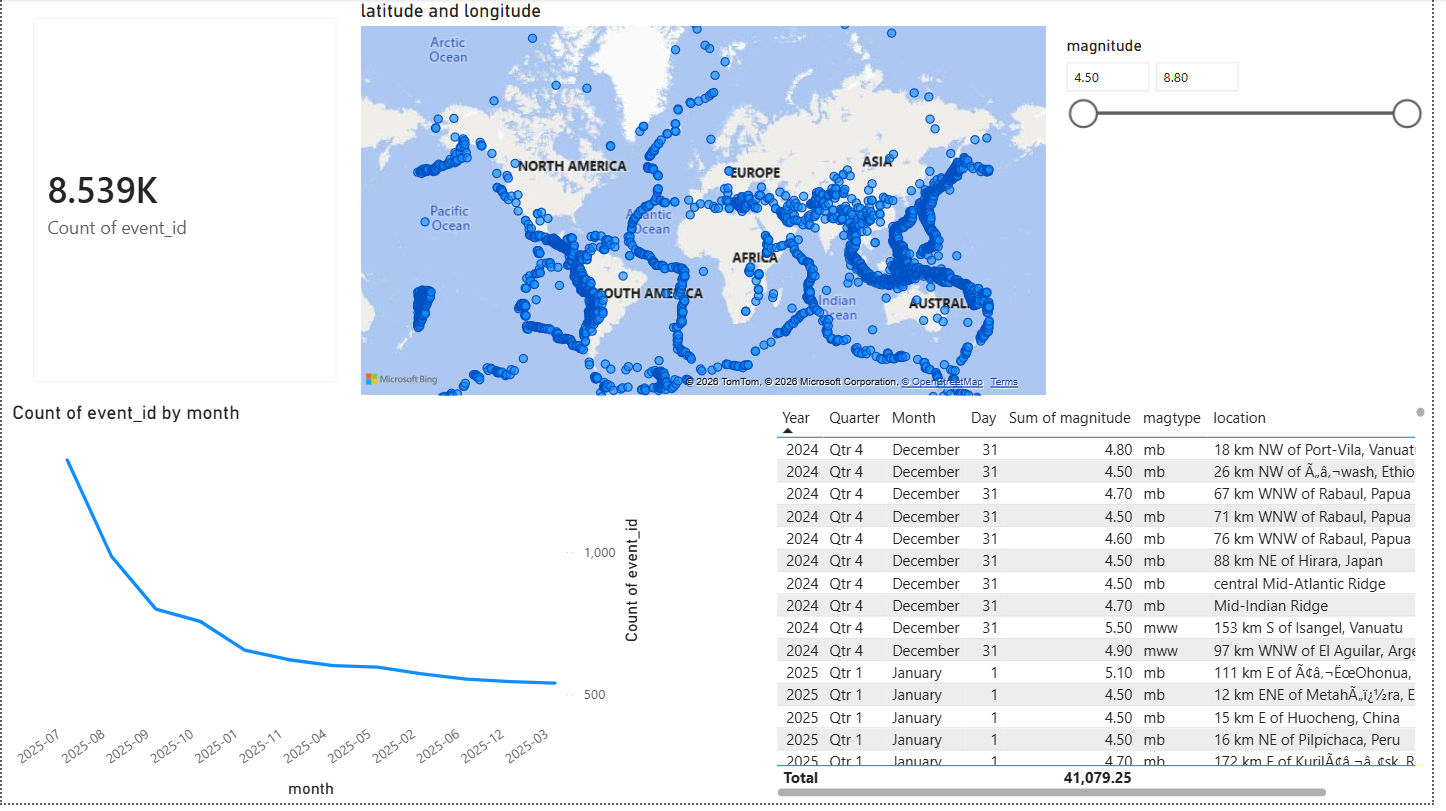

The page's visual inventory and layout, read from the dashboard file:
{"tool":"powerbi","page":{"name":"Page 1","canvas":[1280,720],"ordinal":0},"visuals":[{"type":"cardVisual","fields":{"Data":["CountNonNull(usgs earthquakes.event_id)"]},"box":[10.4,0,306.1,360.4],"z":0},{"type":"lineChart","fields":{"Category":["usgs earthquakes.month"],"Y2":["CountNonNull(usgs earthquakes.event_id)"]},"box":[4.6,360.4,509.5,359.3],"z":1},{"type":"tableEx","fields":{"Values":["usgs earthquakes.time.Variation.Date Hierarchy.Year","usgs earthquakes.time.Variation.Date Hierarchy.Quarter","usgs earthquakes.time.Variation.Date Hierarchy.Month","usgs earthquakes.time.Variation.Date Hierarchy.Day","Sum(usgs earthquakes.magnitude)","usgs earthquakes.magtype","usgs earthquakes.location"]},"box":[514.1,360.4,765.9,359.3],"z":2},{"type":"map","fields":{"X":["usgs earthquakes.longitude"],"Y":["usgs earthquakes.latitude"]},"box":[316.5,0,623.8,360.4],"z":3},{"type":"slicer","fields":{"Values":["usgs earthquakes.magnitude"]},"box":[940.4,28.9,339.6,331.6],"z":4}]}

Visuals, with their boxes in screenshot pixels (x1, y1, x2, y2), scaled from the page's 1280x720 canvas onto the 1446x811 screenshot:
cardVisual - CountNonNull(usgs earthquakes.event_id): <region>12, 0, 358, 406</region>
lineChart - usgs earthquakes.month x CountNonNull(usgs earthquakes.event_id): <region>5, 406, 581, 810</region>
tableEx - usgs earthquakes.time.Variation.Date Hierarchy.Year x usgs earthquakes.time.Variation.Date Hierarchy.Quarter: <region>581, 406, 1445, 810</region>
map - usgs earthquakes.longitude x usgs earthquakes.latitude: <region>358, 0, 1062, 406</region>
slicer - usgs earthquakes.magnitude: <region>1062, 33, 1445, 406</region>
